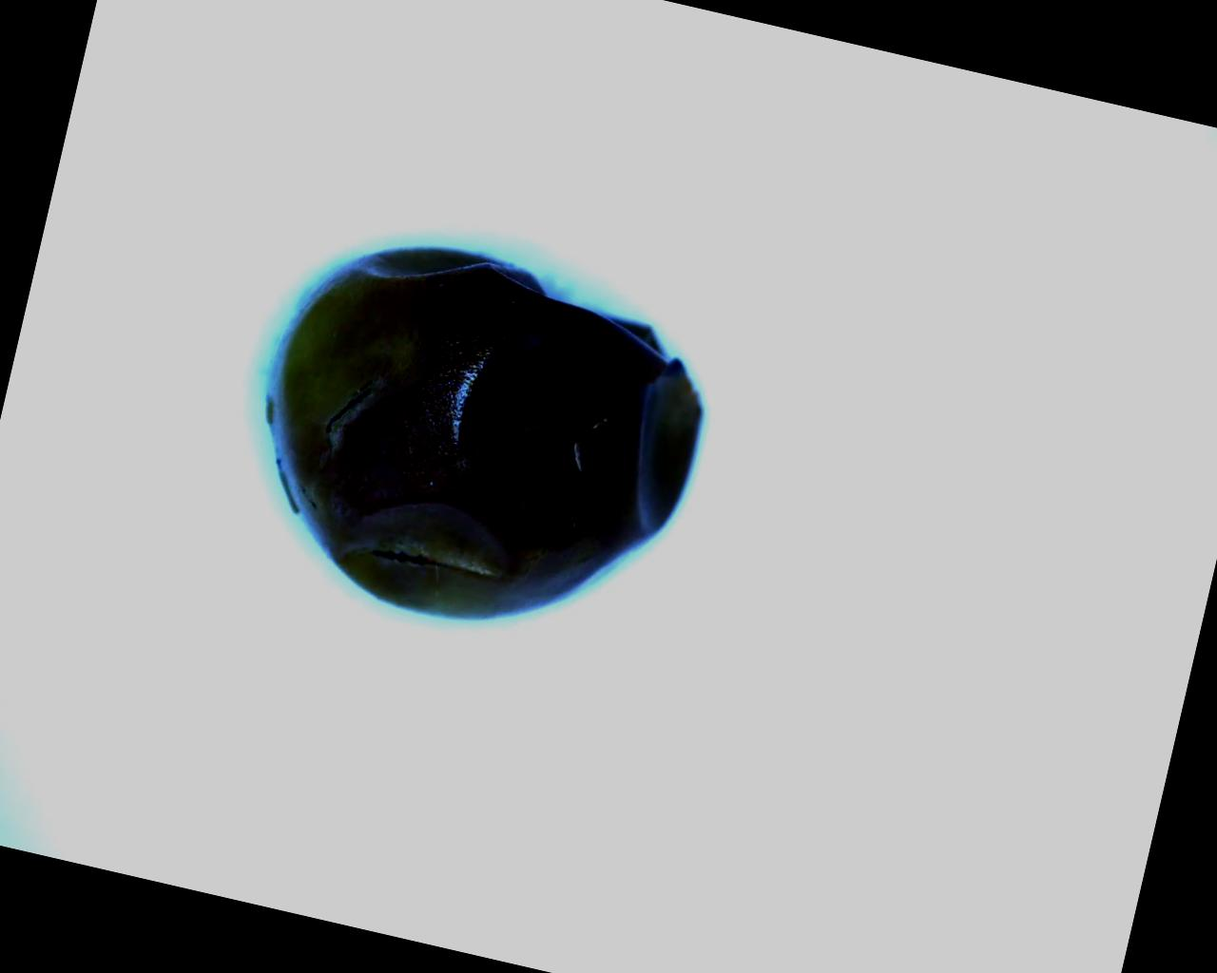Grape Rotten: (221, 210, 731, 667)
